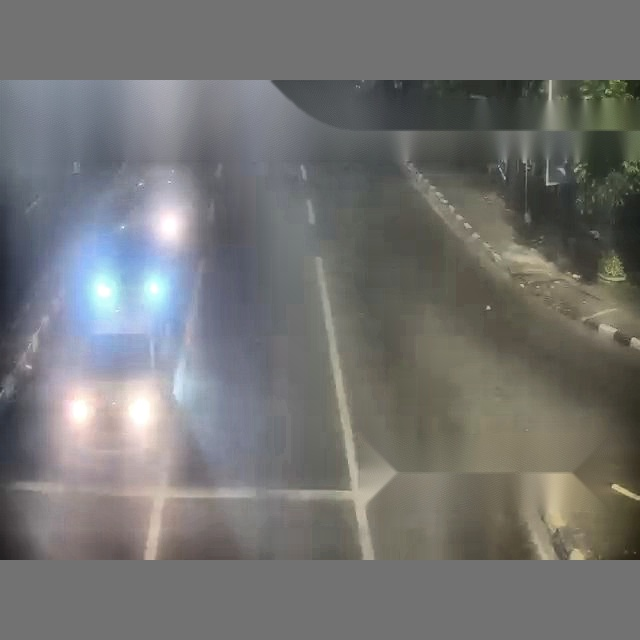Truk: (192, 90, 640, 558)
